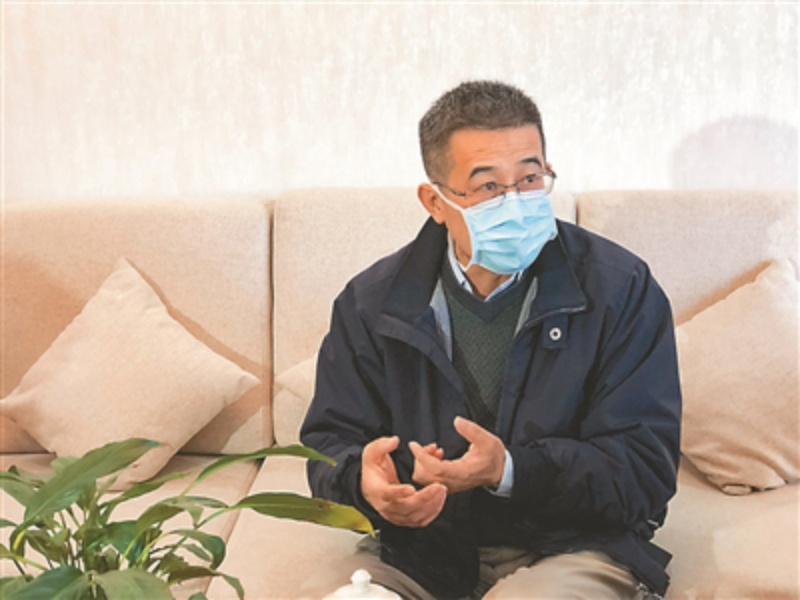ManaoArotava: (395, 87, 580, 283)
